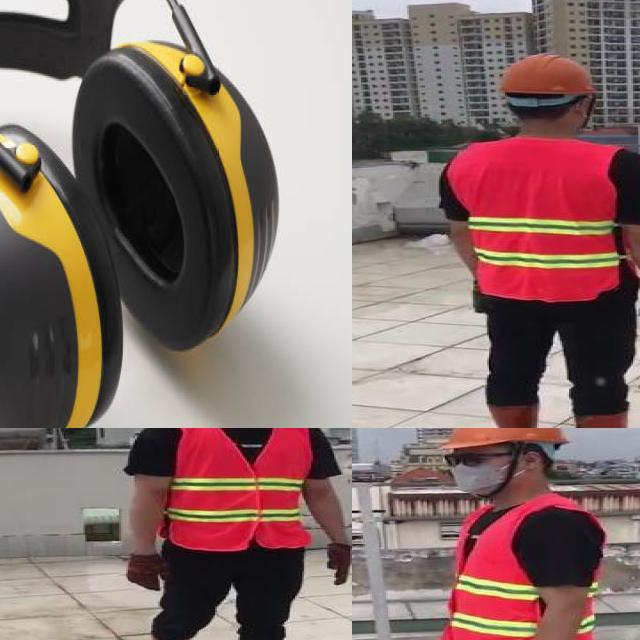Ear-protection: (0, 0, 327, 428)
boots: (476, 400, 553, 428)
face_mask: (443, 449, 516, 498)
glasses: (437, 448, 492, 469)
hand_glove: (120, 555, 170, 591), (327, 544, 350, 586)
head_helmet: (490, 50, 600, 100), (438, 428, 571, 452)
person: (427, 48, 640, 428), (106, 428, 352, 640), (401, 428, 635, 640)
vest: (444, 138, 638, 299), (443, 497, 597, 640), (169, 428, 313, 550)
